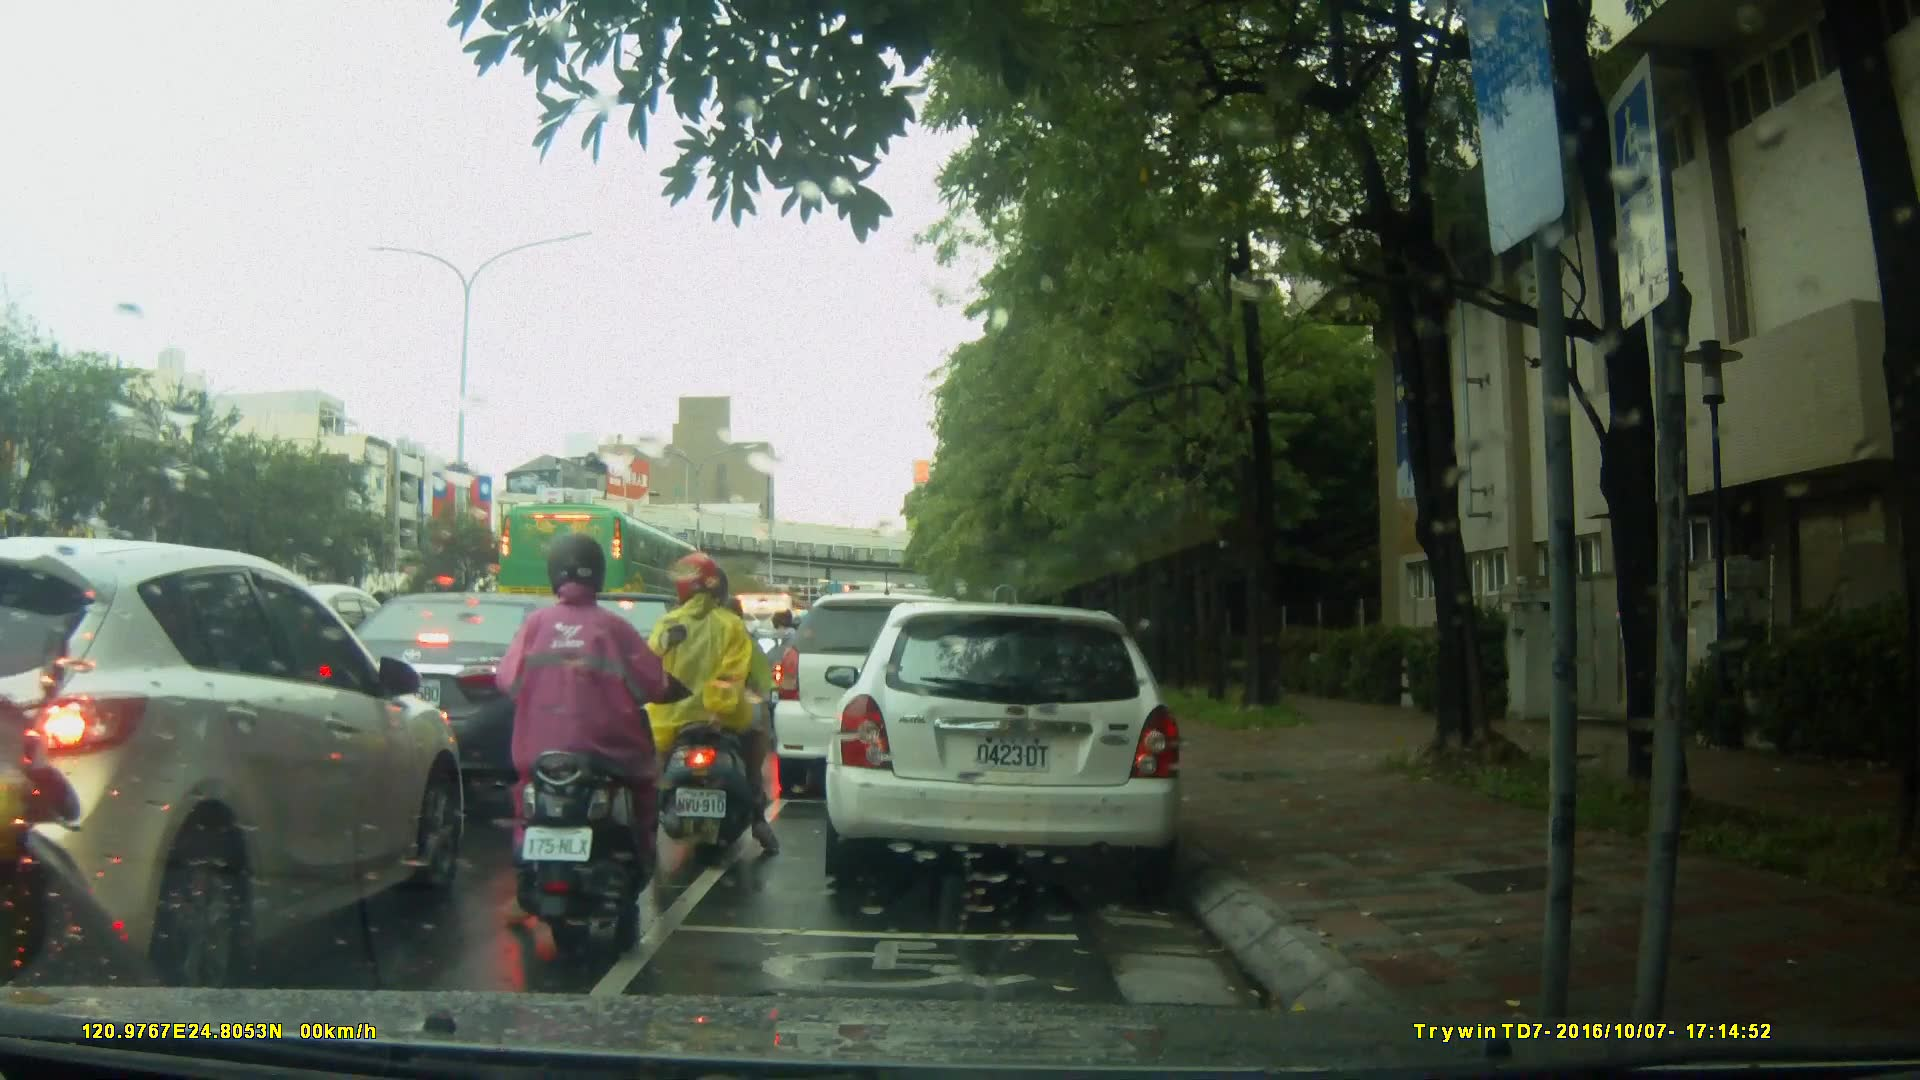rider: (508, 541, 663, 949), (646, 549, 781, 853), (710, 590, 790, 762), (761, 603, 809, 731)
vehicle: (5, 537, 468, 988), (831, 592, 1196, 897), (317, 589, 629, 776), (770, 590, 999, 804), (496, 500, 711, 636)
